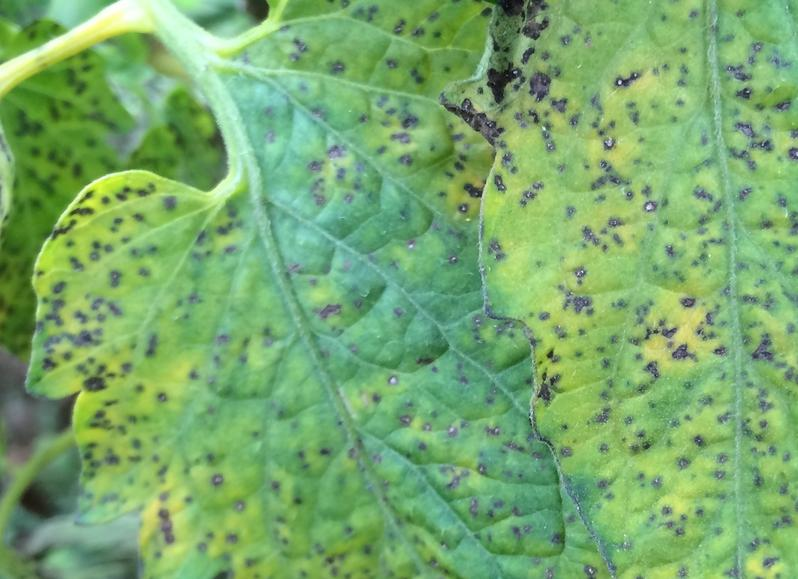Tomato Septoria leaf spot: (0, 0, 659, 579), (476, 0, 798, 579)
